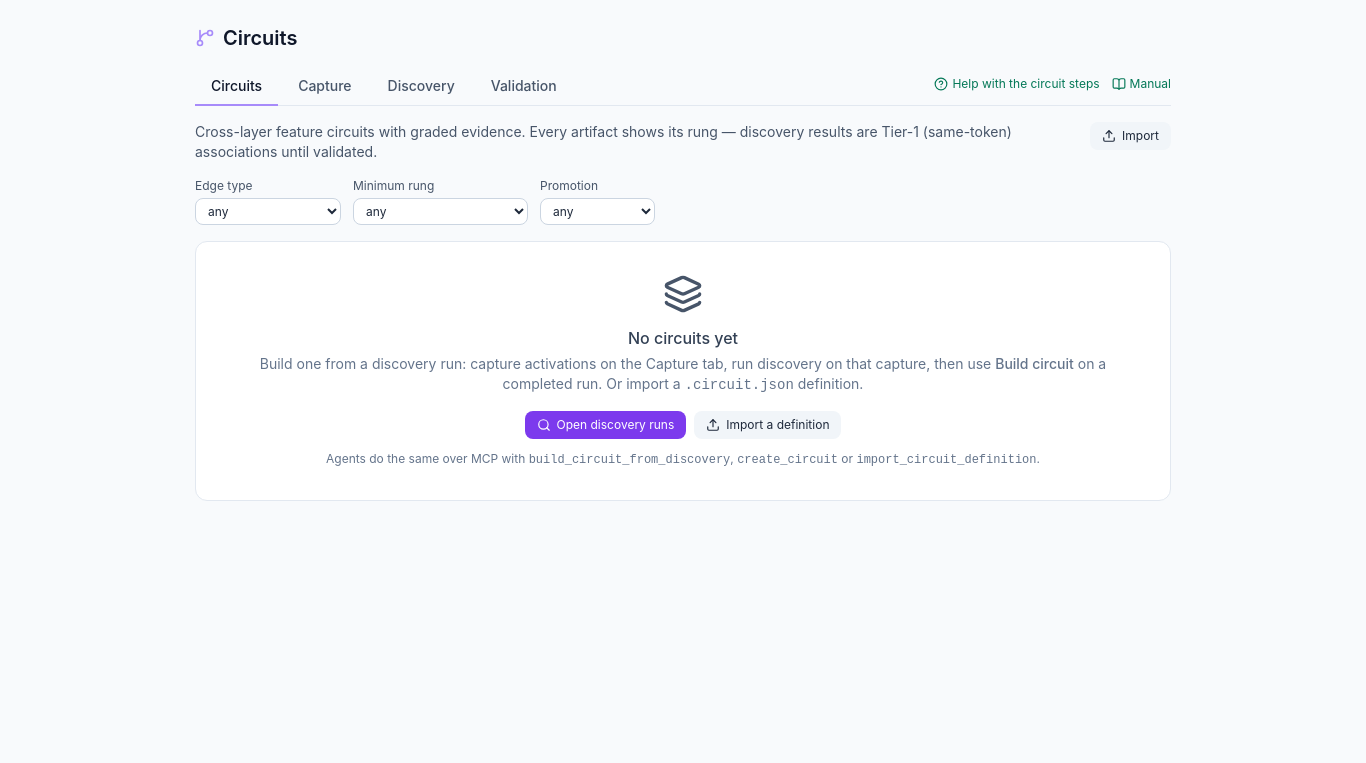
Test: Build circuit from a discovery run › a refused build says why
This screenshot has width=1366, height=763.
Click the button "Open discovery runs" at (605, 425), box [524,411,686,439]
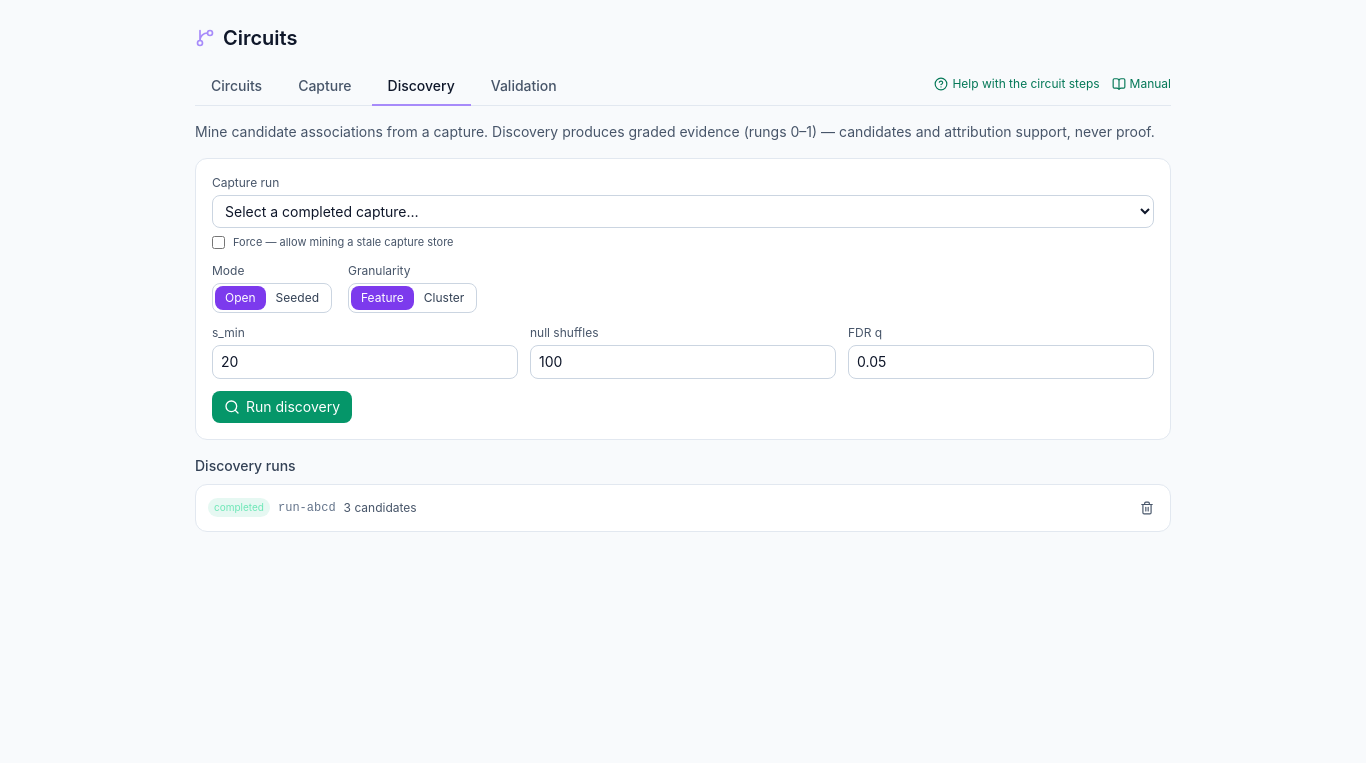
Click the text "run-abcd" at (307, 508), box [278,500,336,516]
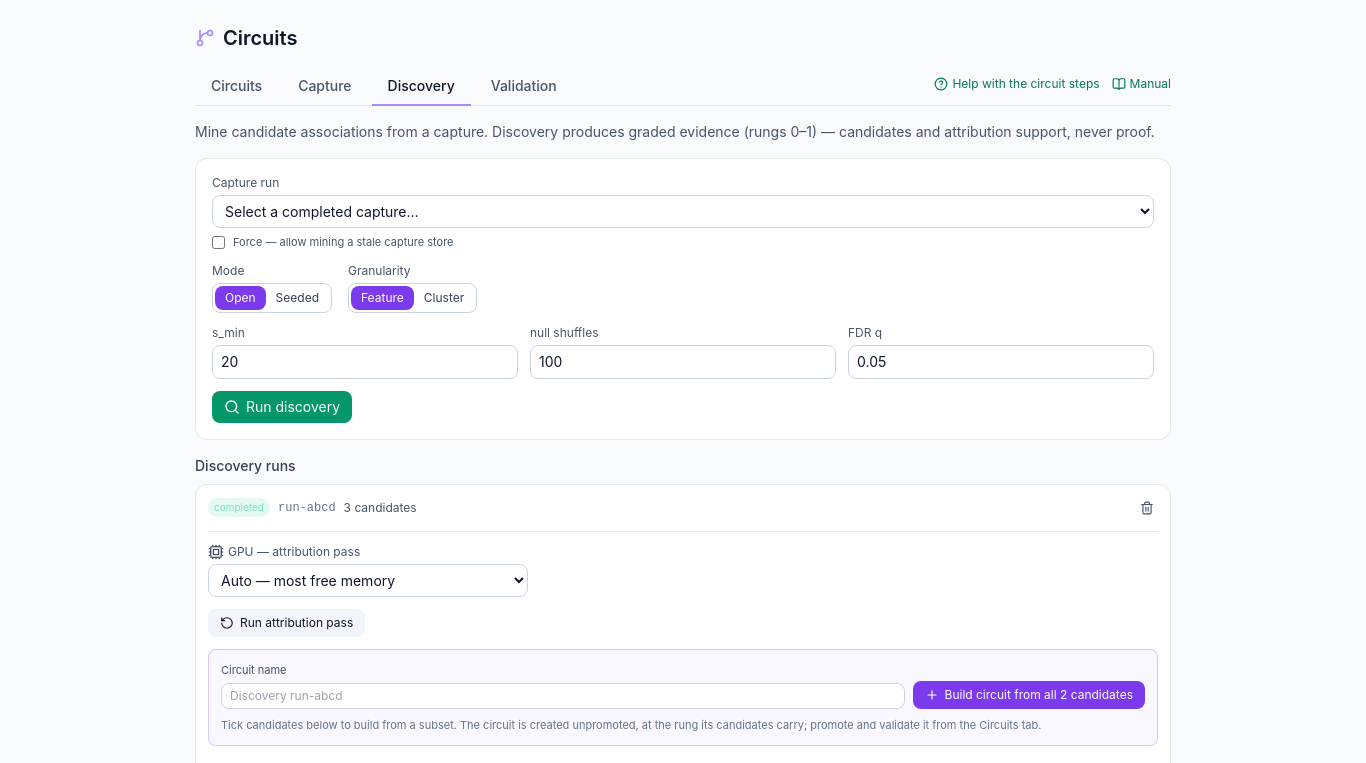
Click the button "Build circuit from all 2 candidates" at (1029, 695), box [912,681,1145,709]
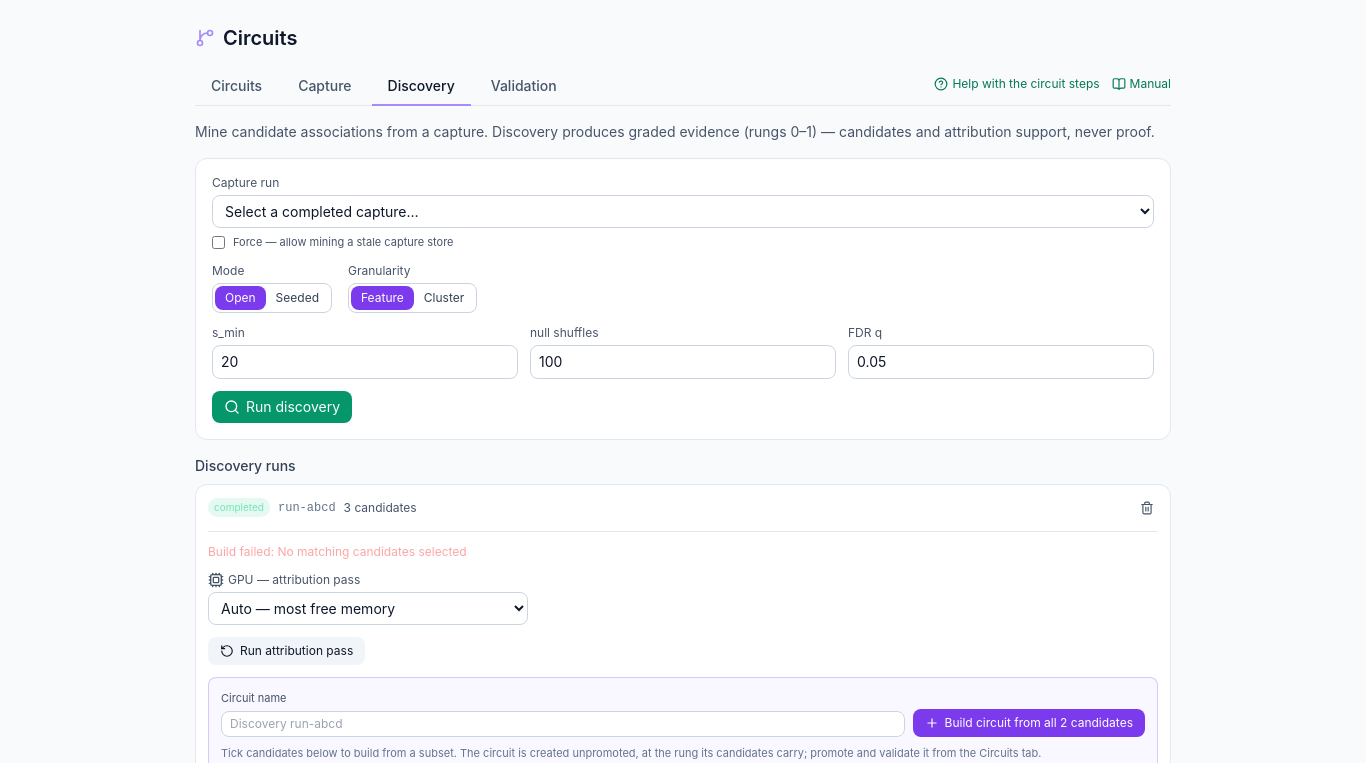
Expected: the text "Build failed: No matching candidates selected" is shown, [208,544,467,558]
